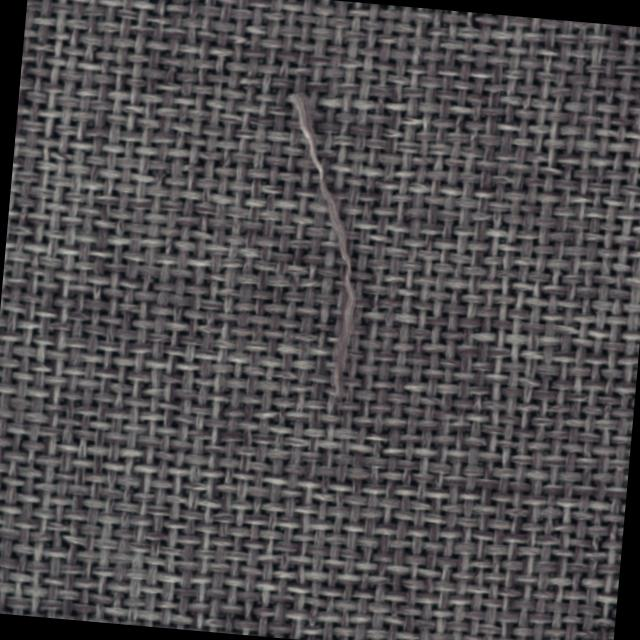Thread: (259, 91, 378, 404)
